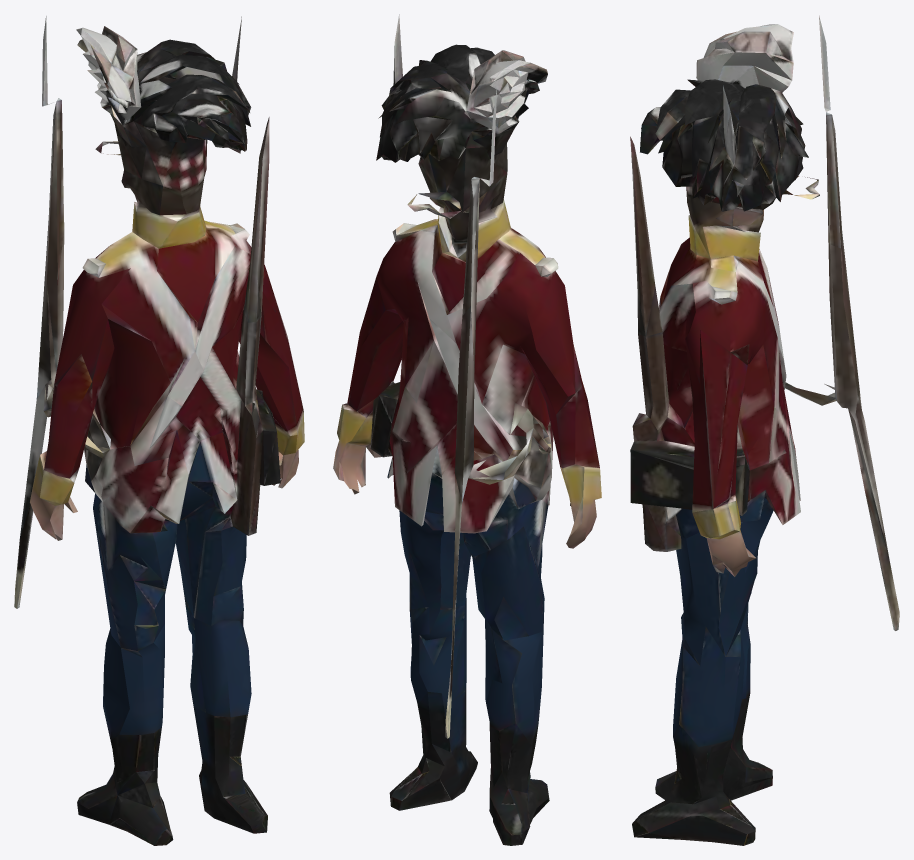
The model's file is soldado-ingles.glb.
The picture shows the model from 3 angles, left to right: view 1: azimuth 30°, elevation 25°; view 2: azimuth 150°, elevation 25°; view 3: azimuth 270°, elevation 25°; orthographic projection. The views are drawn at different scales.
Bounding box in the file's own units: 0.6628 × 1.88 × 0.602.
1 material, 1 textured.
